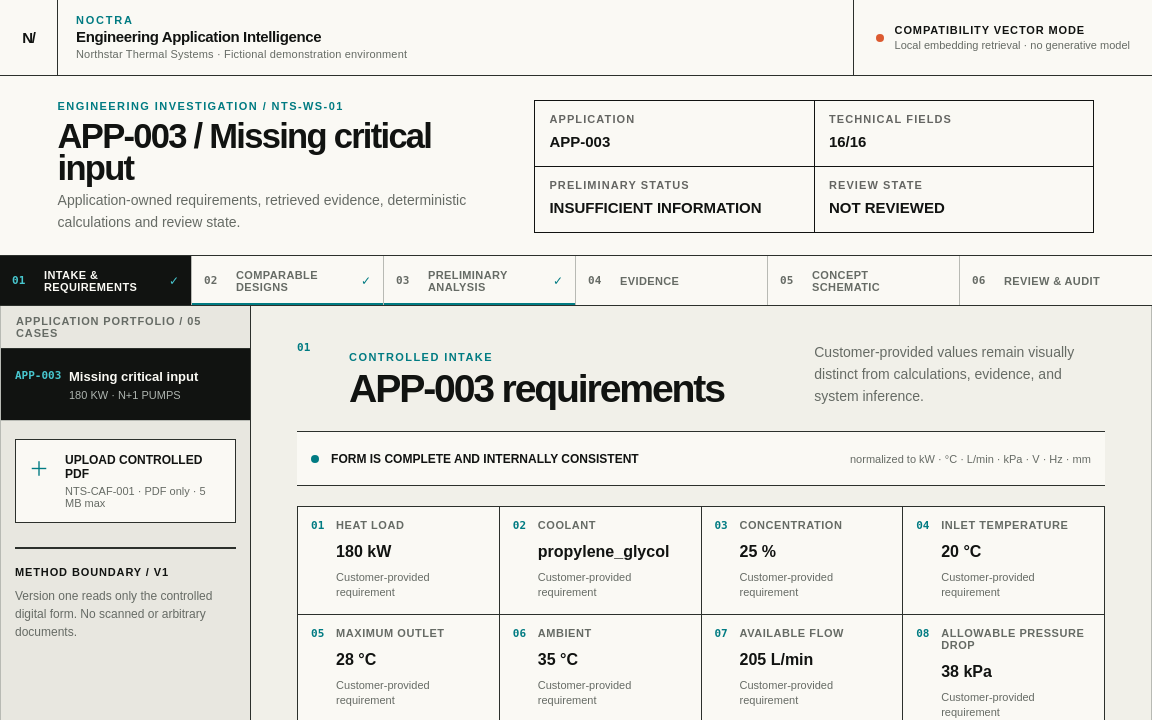
workspace › always displays Not Selected for invalid APP-003
The image size is (1152, 720).
Click the button "05 Concept schematic": (864, 281) [768, 256, 960, 305]
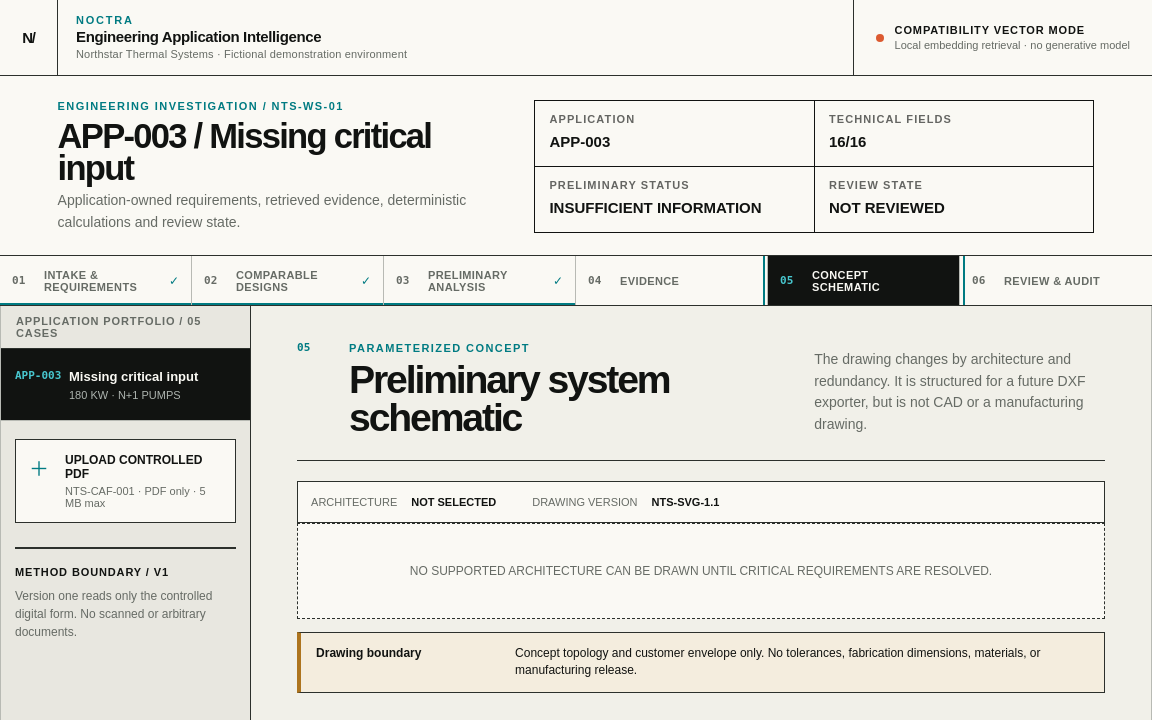
Result: the text "Not Selected" is shown at [411, 496, 496, 508]
